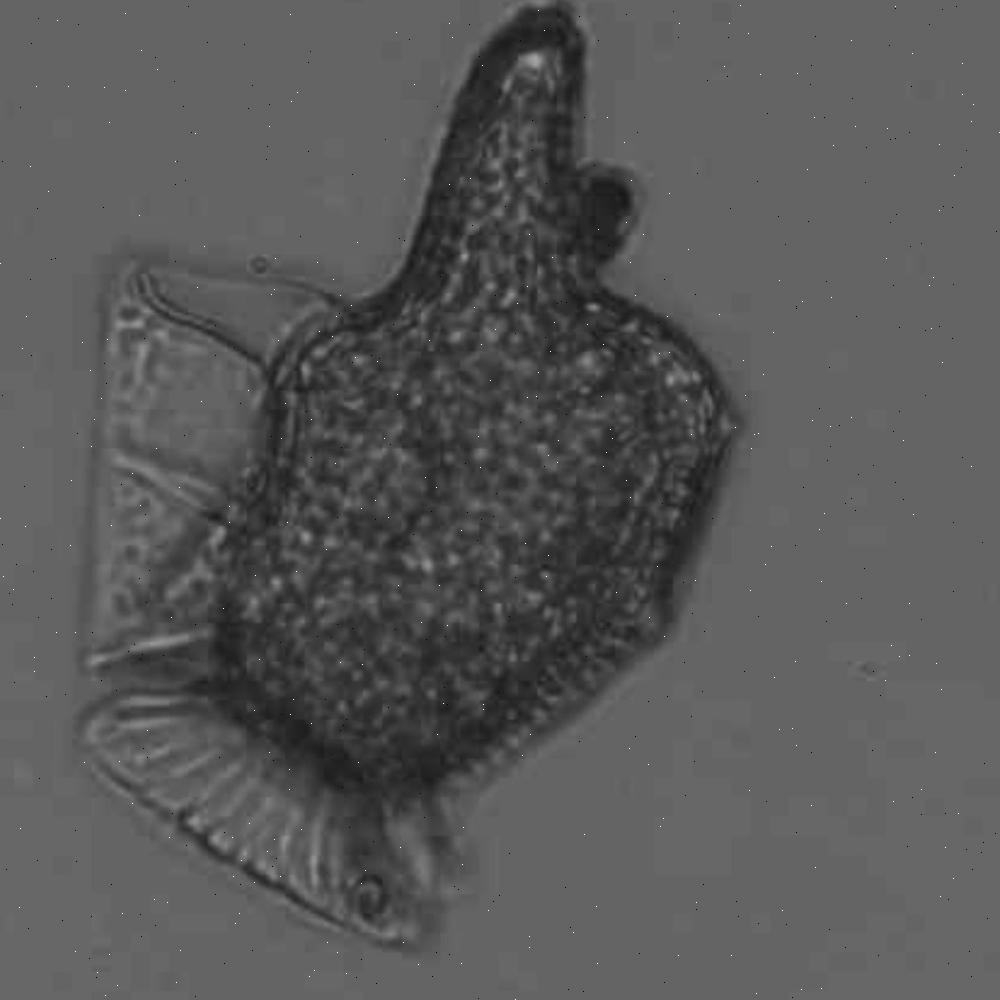dinophysis_caudata: (81, 10, 752, 952)
